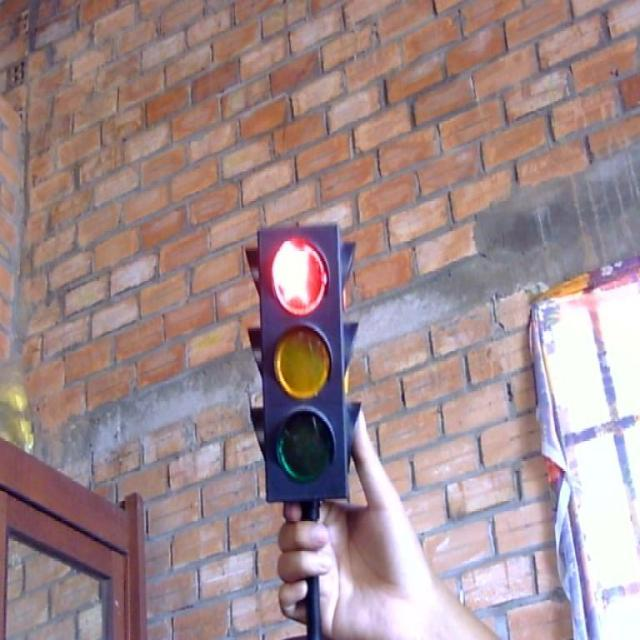red light: (266, 226, 332, 322)
